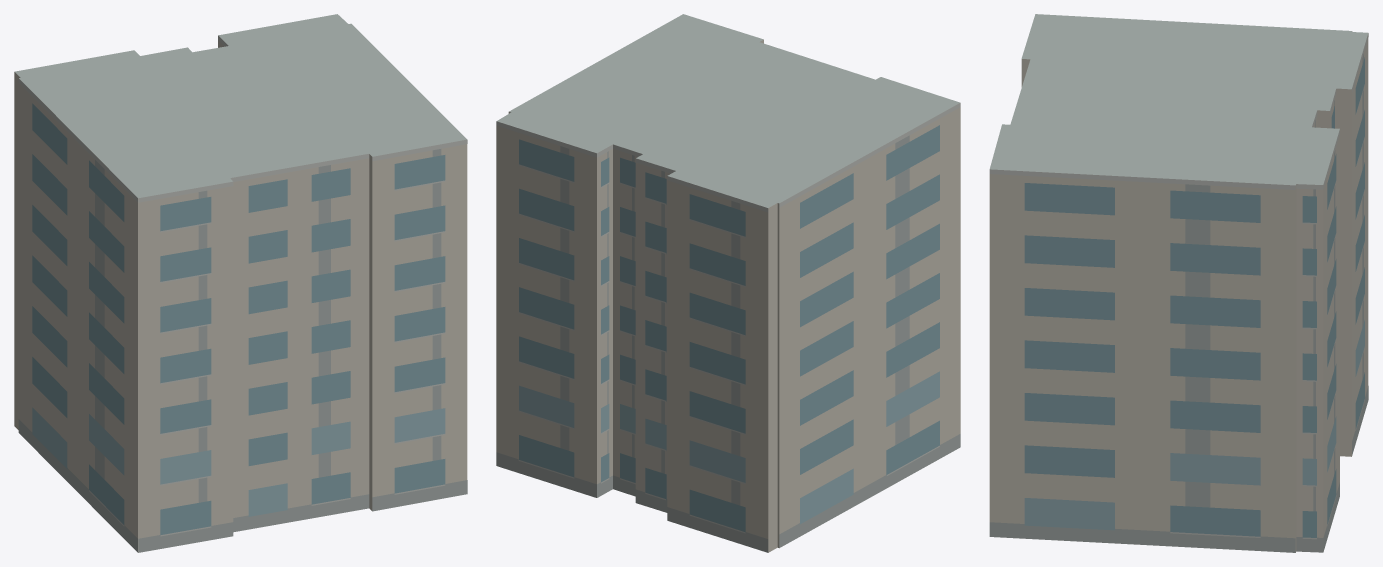
Rendered from survey-upis-32740126.glb.
3 renders of one model, left to right at view 1: azimuth 30°, elevation 25°; view 2: azimuth 150°, elevation 25°; view 3: azimuth 270°, elevation 25°, orthographic. The views are drawn at different scales.
Visible parts, largest first — view 1: survey-upis-32740126.tmp; view 2: survey-upis-32740126.tmp; view 3: survey-upis-32740126.tmp.
Boxes of the visible parts, x1=… form: survey-upis-32740126.tmp: x1=14, y1=14, x2=467, y2=552; survey-upis-32740126.tmp: x1=496, y1=14, x2=960, y2=552; survey-upis-32740126.tmp: x1=989, y1=14, x2=1368, y2=552.
Size of the model in its own units: 19.32 by 19.3 by 18.04.
